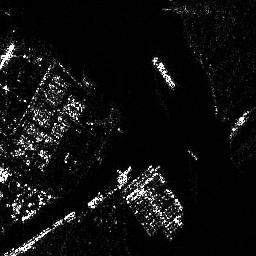ship: (152, 56, 176, 90), (229, 105, 249, 141), (116, 166, 133, 185), (87, 192, 104, 208)
